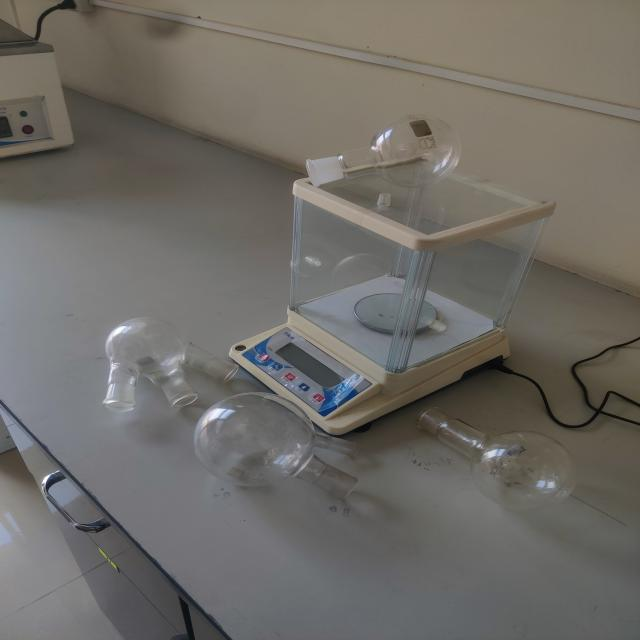Round_Bottom_Flask_Borosilicate_Glass_1_Neck: (274, 62, 504, 224), (393, 381, 601, 523)
Round_Bottom_Flask_Borosilicate_Glass_2_Neck: (182, 381, 384, 516)
Round_Bottom_Flask_Borosilicate_Glass_3_Neck: (65, 300, 251, 422)
